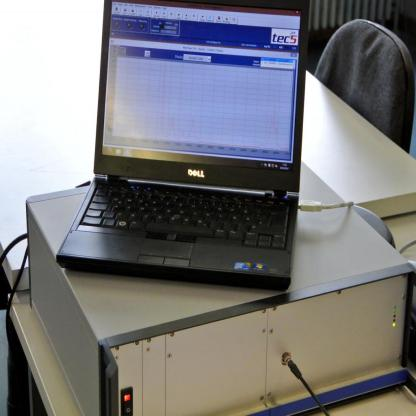board: (57, 0, 307, 292)
